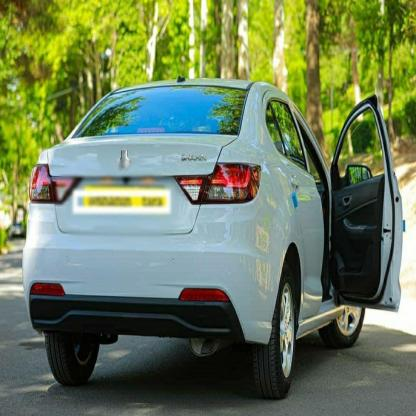Car: (20, 60, 408, 389)
